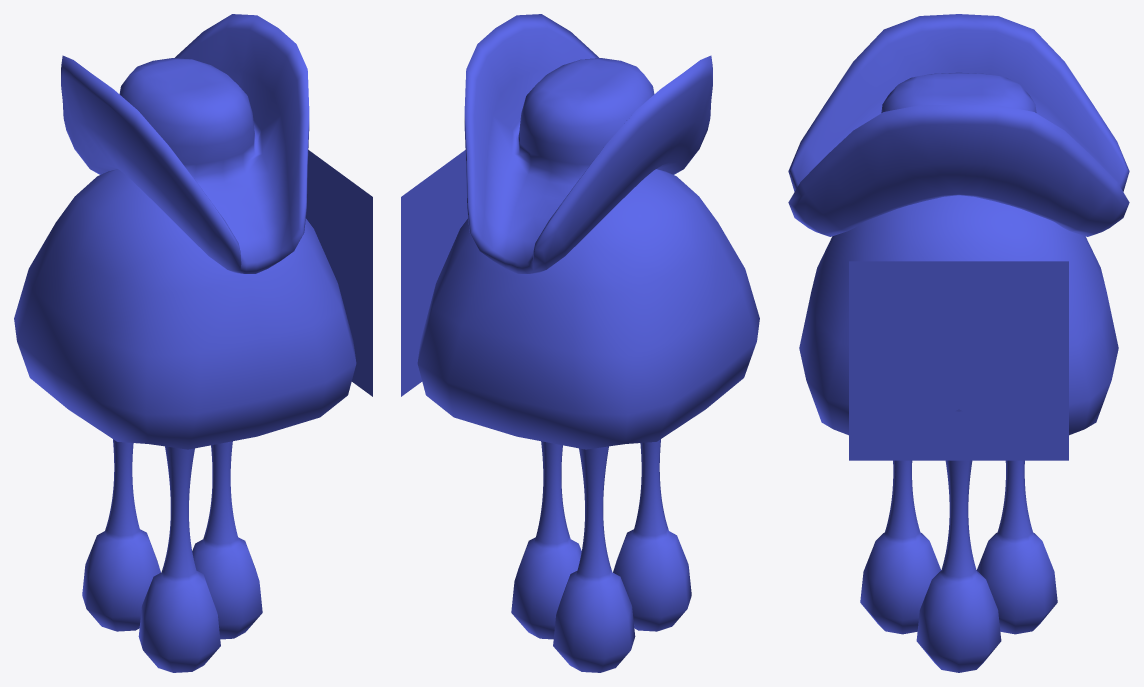
Rendered from placeholder_character.fbx.
3 views of the same model, side by side, from view 1: azimuth 30°, elevation 25°; view 2: azimuth 150°, elevation 25°; view 3: azimuth 270°, elevation 25° (orthographic).
Visible parts, largest first — view 1: body, hat, leg2, face, leg3, leg1; view 2: body, hat, leg3, face, leg2, leg1; view 3: hat, face, body, leg1, leg2, leg3.
Part boxes in pixels (x1,y1,x2,y2): body: (14, 169, 356, 449); hat: (61, 14, 309, 273); leg2: (138, 446, 220, 672); face: (306, 150, 372, 396); leg3: (82, 439, 160, 631); leg1: (192, 441, 262, 639); body: (417, 169, 759, 449); hat: (464, 14, 712, 273); leg3: (553, 446, 635, 672); face: (401, 150, 467, 396); leg2: (613, 439, 691, 631); leg1: (511, 441, 581, 639); hat: (788, 14, 1129, 236); face: (849, 261, 1068, 460); body: (799, 195, 1118, 435); leg1: (916, 460, 1001, 672); leg2: (860, 460, 941, 634); leg3: (976, 460, 1057, 634).
Size of the model in its own units: 190 by 406 by 212.
